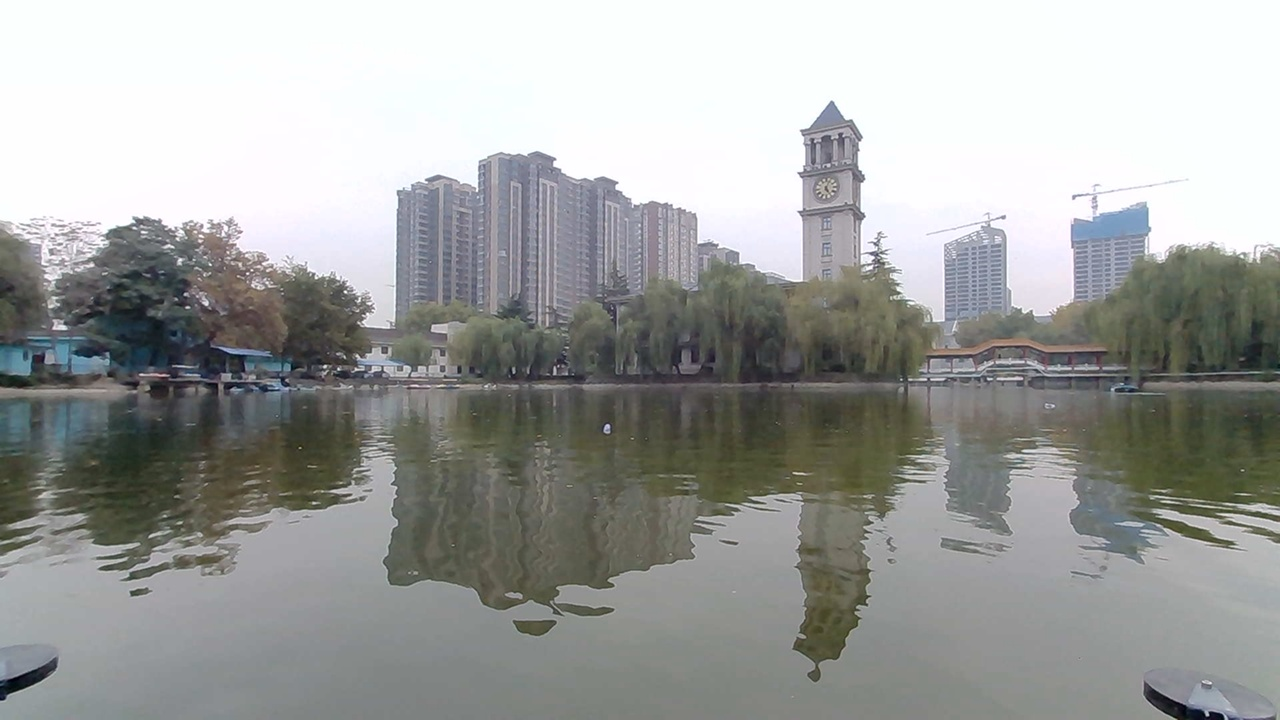bottle: (574, 409, 626, 441), (1038, 396, 1070, 415)
